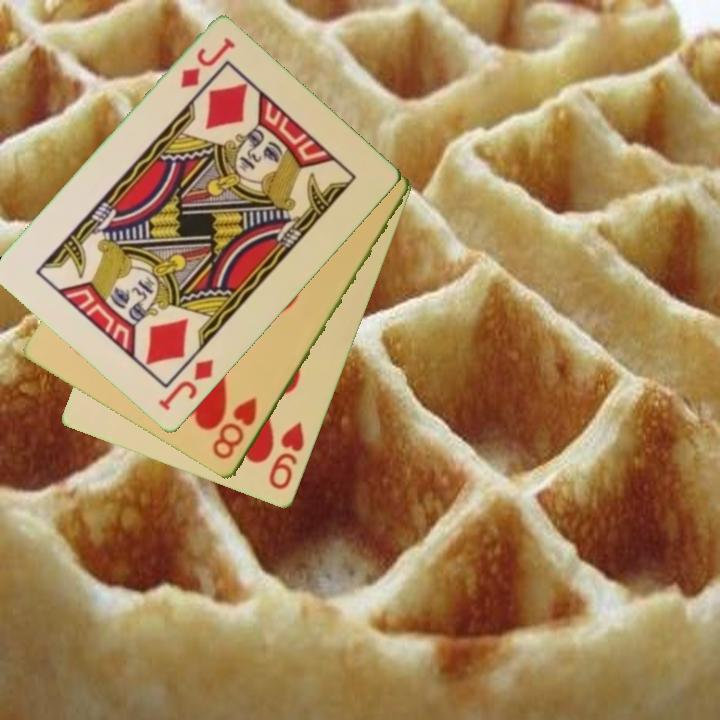8h: (208, 393, 261, 463)
9h: (265, 419, 308, 494)
Jd: (155, 355, 217, 415), (177, 34, 238, 92)
